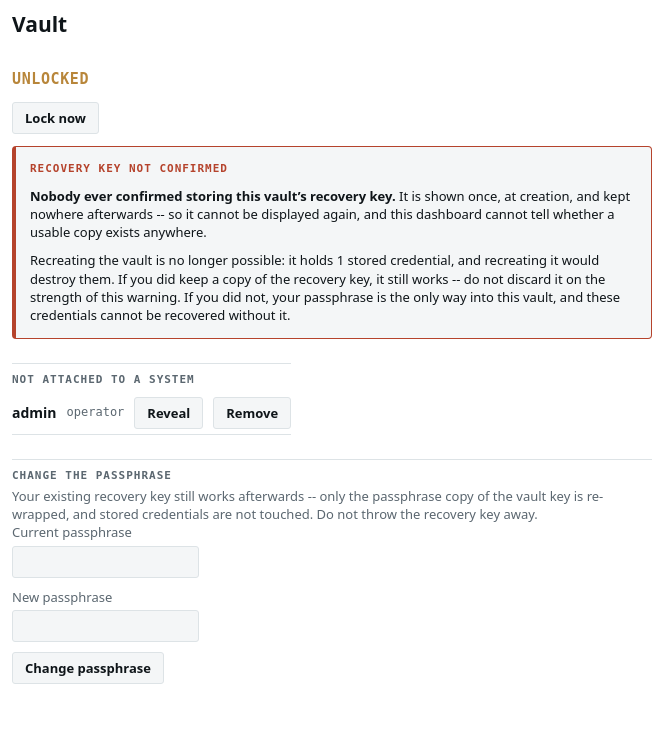
Test: VaultPanel › removing a credential (C1) › confirming deletes it and drops it from the list
What coordinates should you click on to do the following:
click the button with test id "remove-c1"
I would click on:
 (252, 413)
Its box is 213,396 -> 291,429.
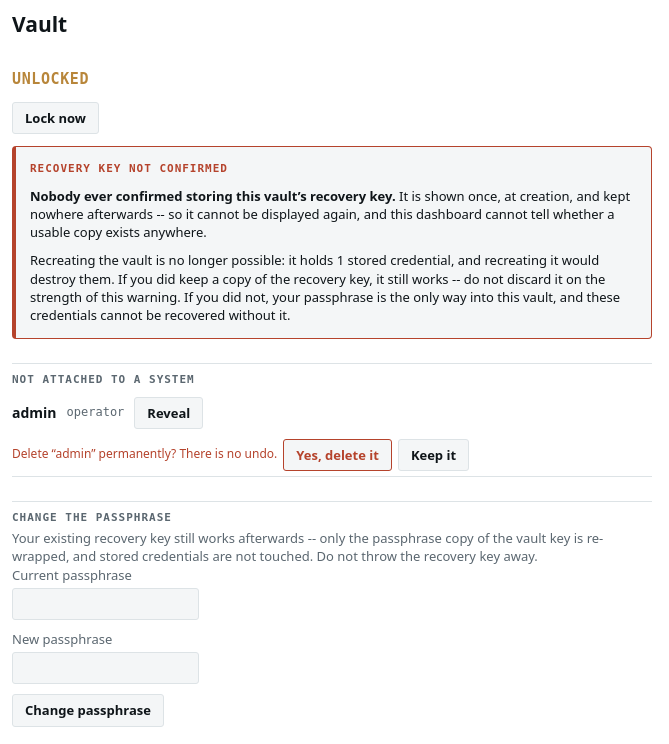
What coordinates should you click on to do the following:
click the button with test id "confirm-remove-c1"
I would click on:
 (338, 455)
Its box is 283,439 -> 392,471.
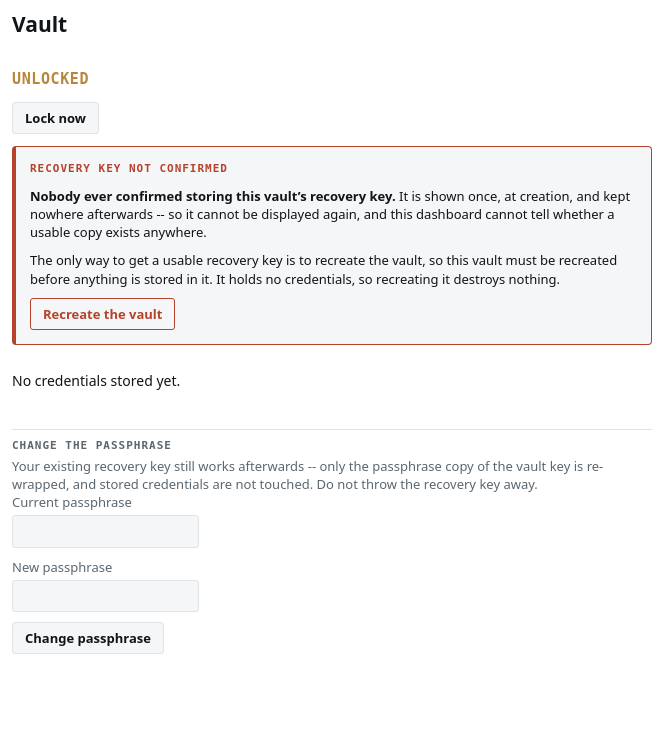
Now the list item with test id "credential-row-c1" is gone
